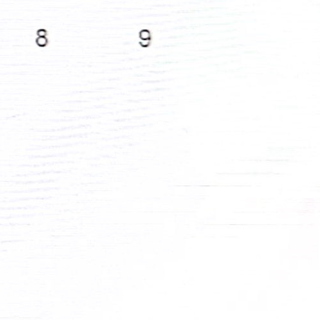eight: (33, 26, 52, 49)
nine: (135, 26, 155, 50)
